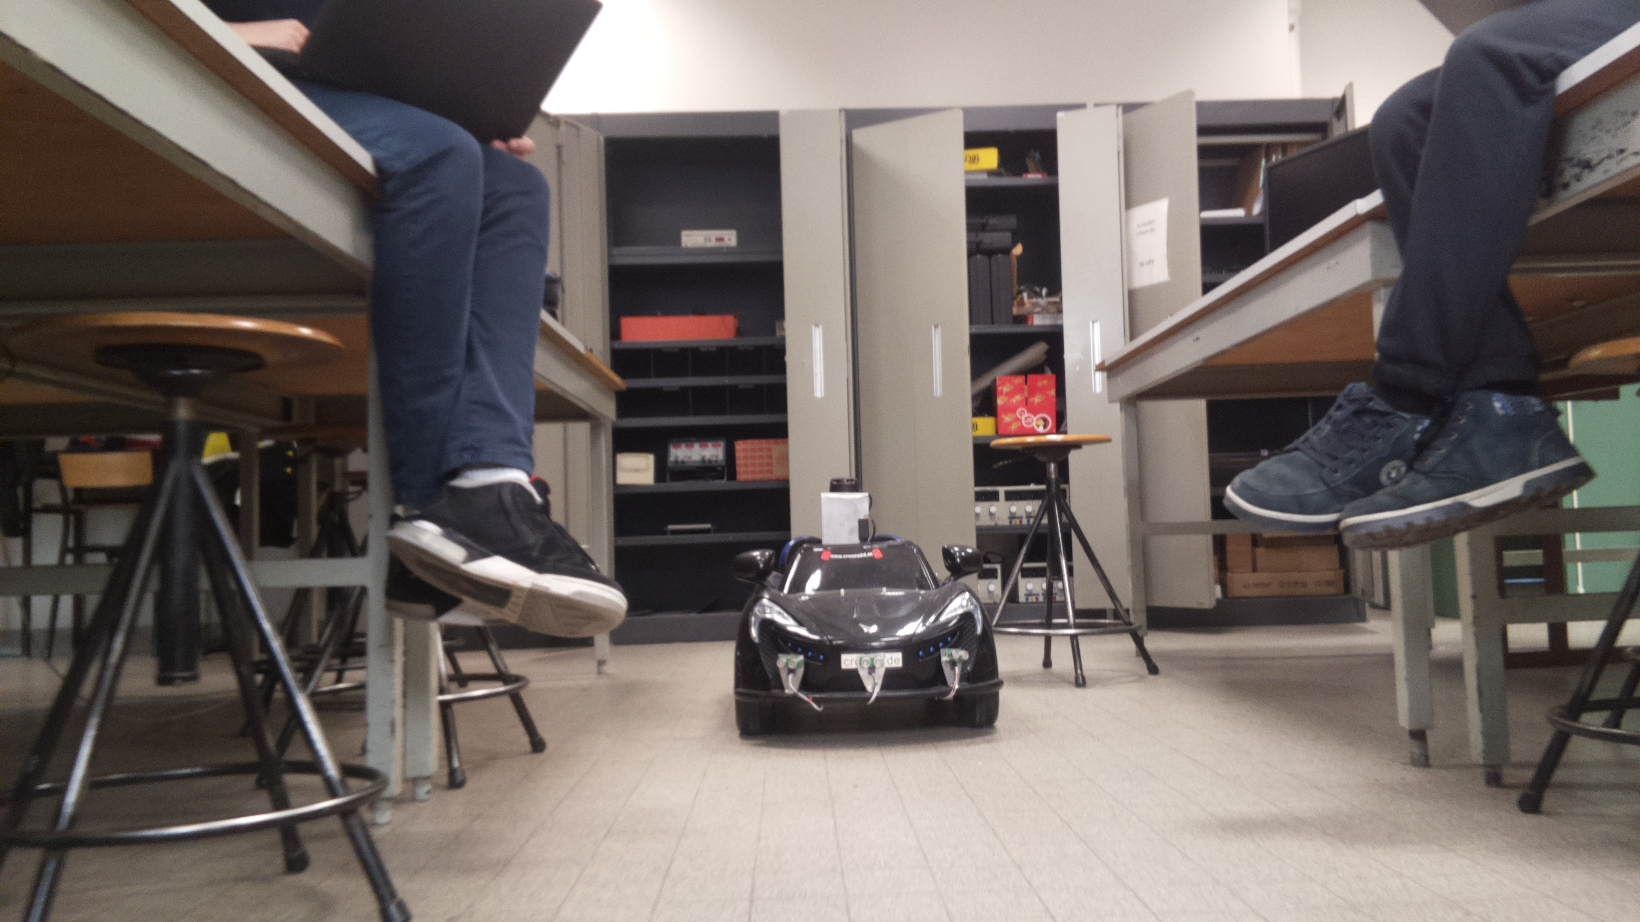big: (729, 475, 1008, 736)
